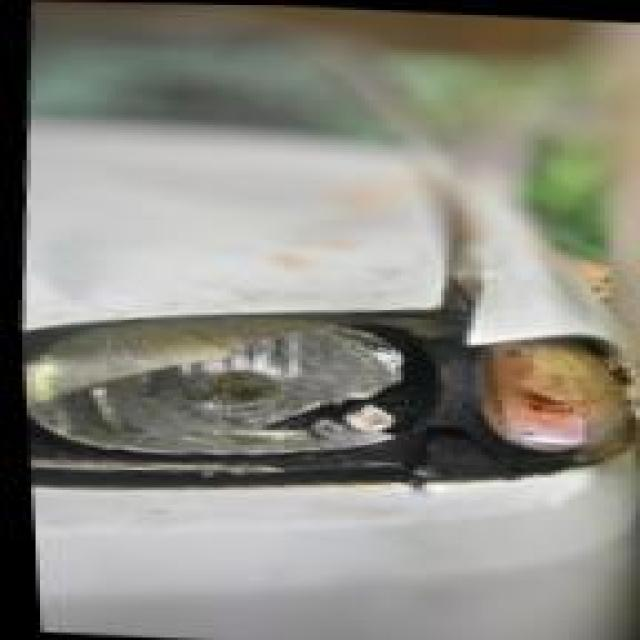Light: (13, 298, 605, 492)
